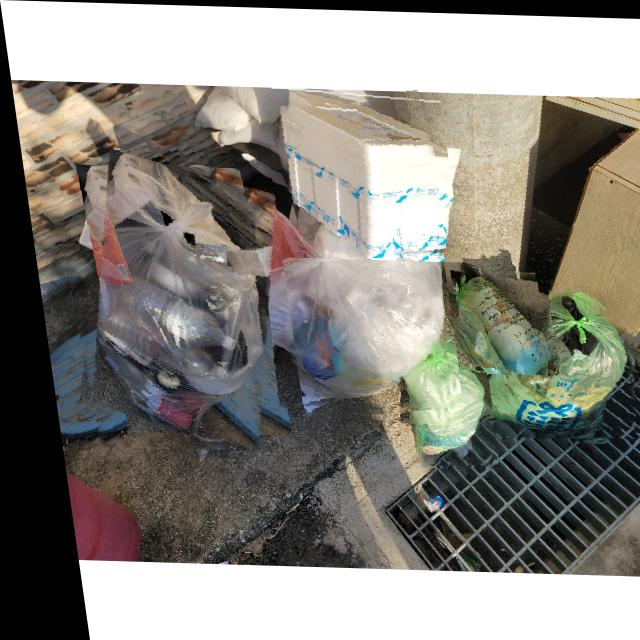general_trashbag: (469, 290, 628, 436), (446, 262, 541, 373), (397, 368, 482, 465)
other_trashbag: (79, 149, 270, 450), (235, 220, 440, 411), (262, 95, 454, 257)
